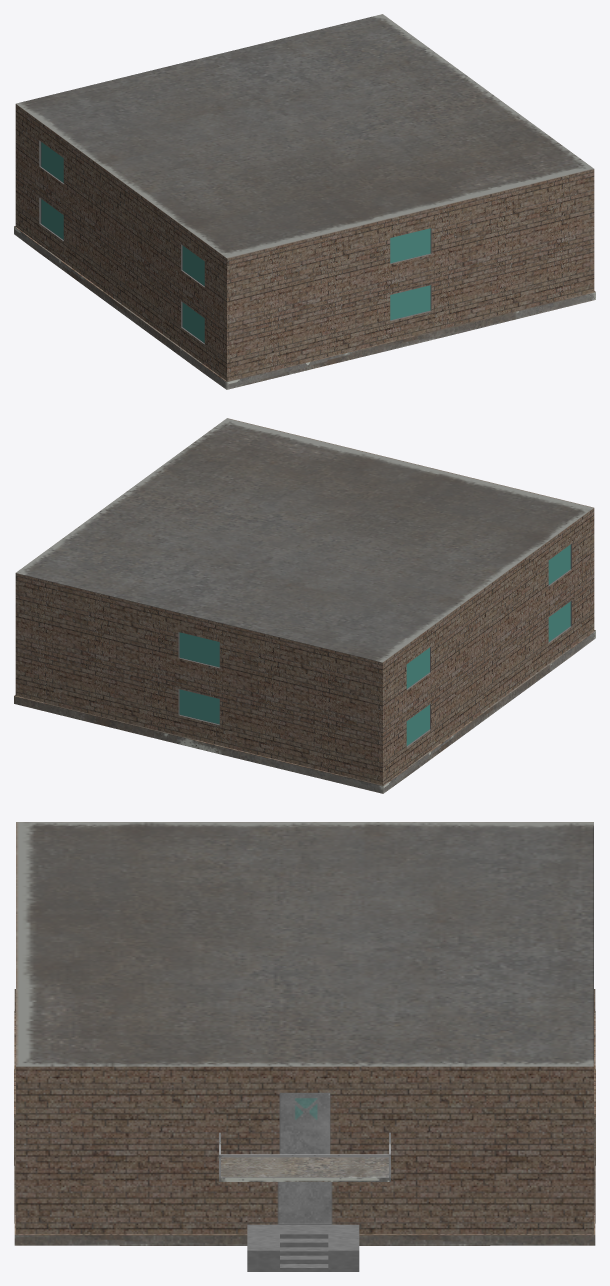
The picture shows the model from 3 angles, top to bottom: view 1: azimuth 30°, elevation 25°; view 2: azimuth 150°, elevation 25°; view 3: azimuth 270°, elevation 25°; orthographic projection. The views are drawn at different scales.
Visible parts, largest first — view 1: Box001; view 2: Box001; view 3: Box001, wall-door.001_Plane.005.
Part boxes in pixels (<box>): Box001: <box>14,14,595,389</box>; Box001: <box>14,418,595,793</box>; Box001: <box>14,822,595,1245</box>; wall-door.001_Plane.005: <box>247,1224,359,1271</box>.
Size of the model in its own units: 13.35 by 4.1 by 12.08.
Materials: 2 (2 with a texture image).
